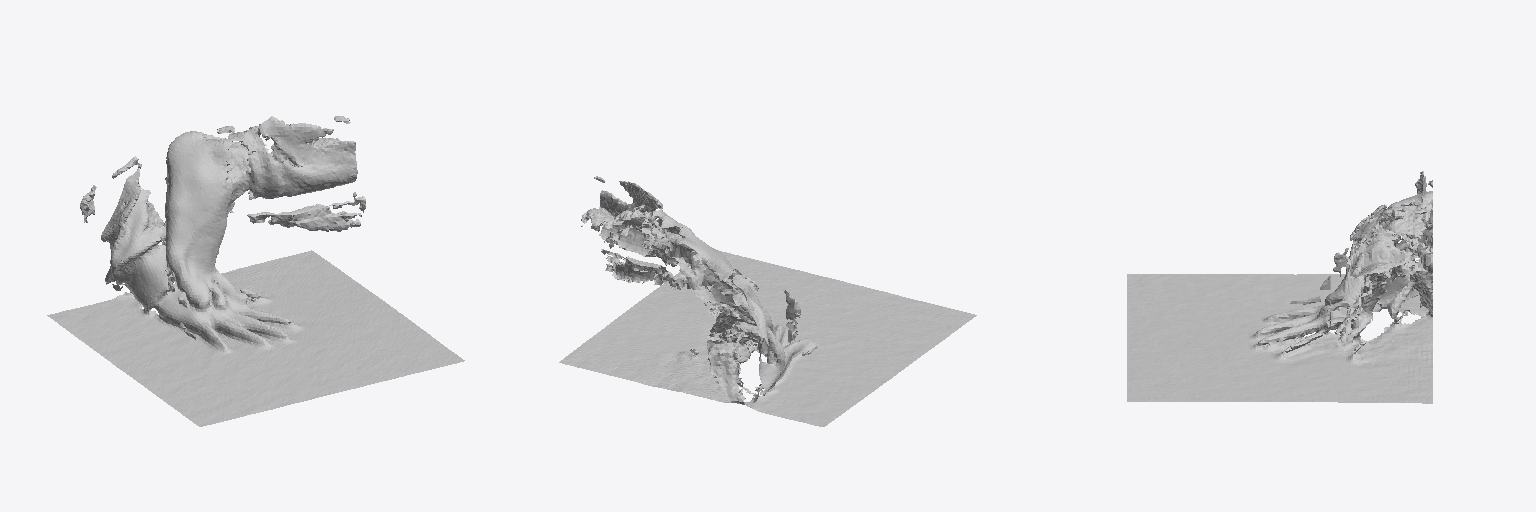
File: handFoot.obj
The picture shows the model from 3 angles: view 1: azimuth 30°, elevation 25°; view 2: azimuth 150°, elevation 25°; view 3: azimuth 270°, elevation 25°; orthographic projection.
Size of the model in its own units: 0.357 by 0.218 by 0.357.